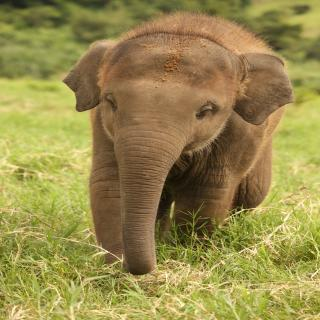Elephant: (58, 6, 299, 282)
